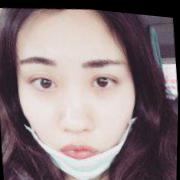WRONG: (11, 17, 144, 180)
